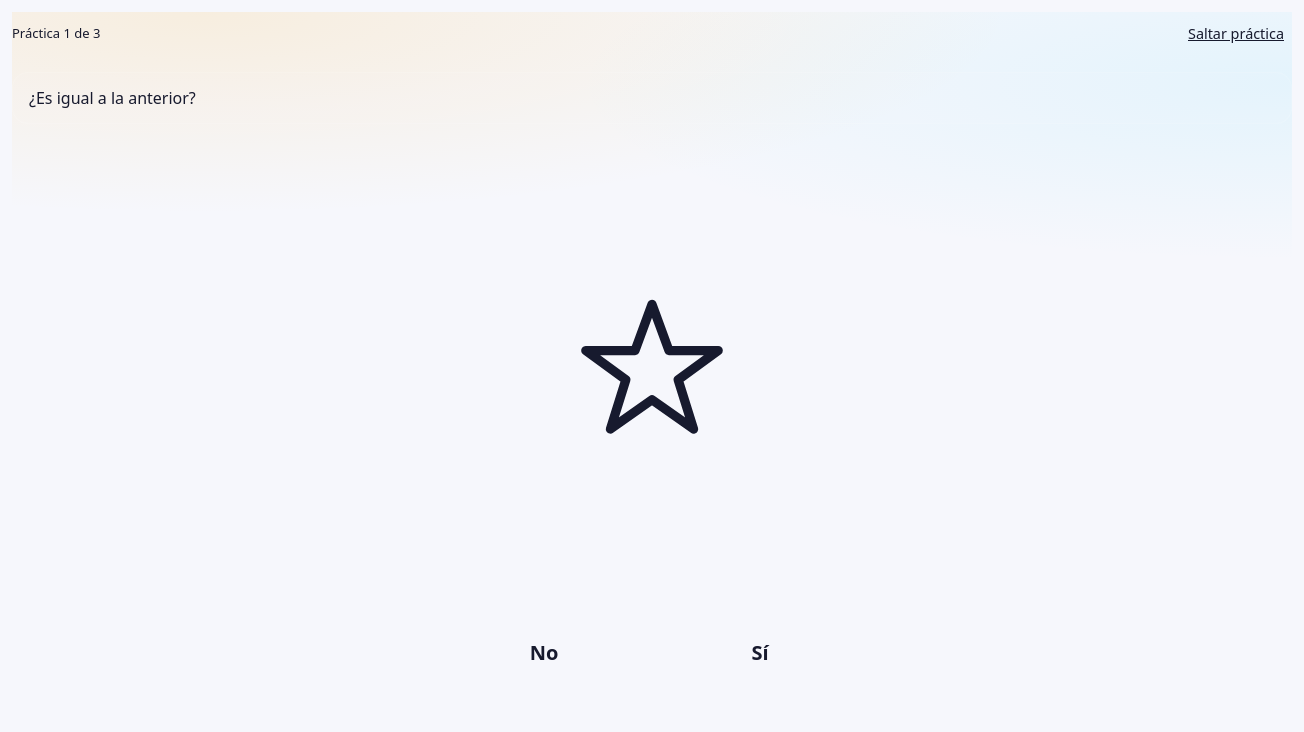
Test: the guide walks through the three questions
Click the button "Sí": (760, 653) [660,614,860,692]
Wait 700 ms
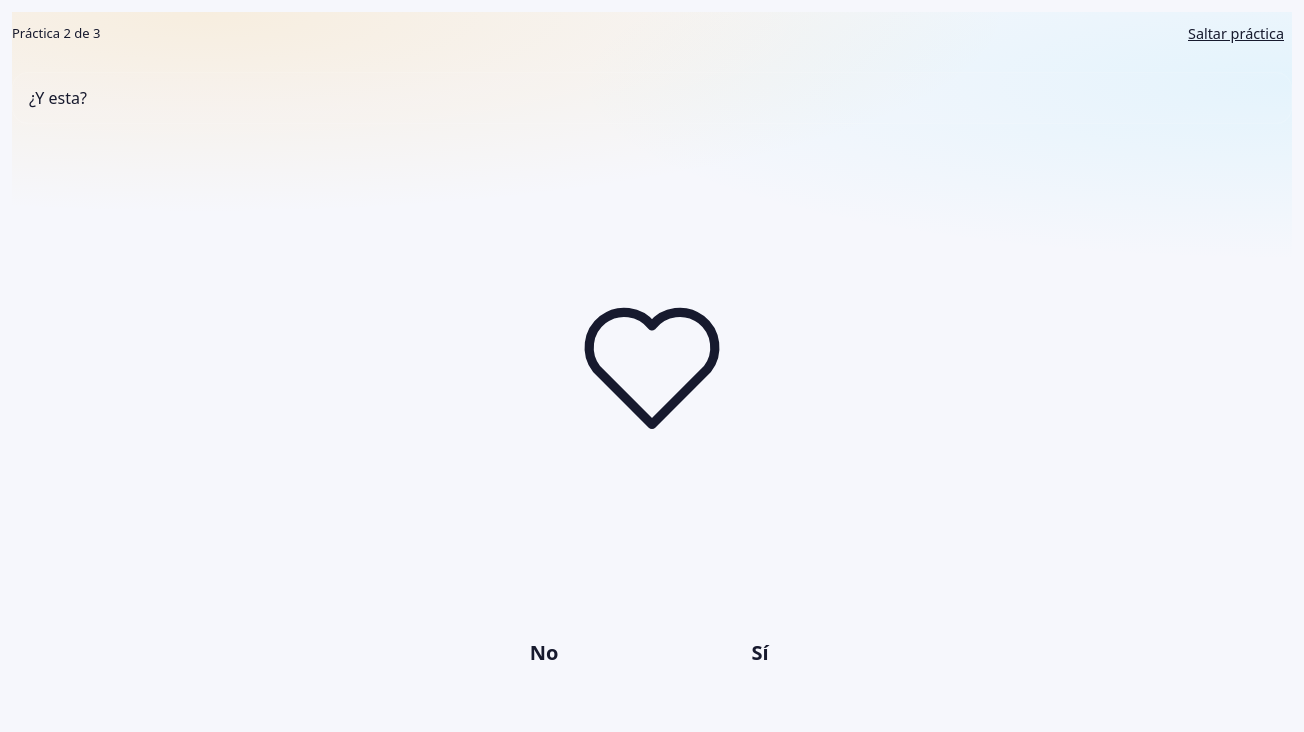
Expected: the text "¿Y esta?" is shown, [12,72,1292,124]
Click the button "No": (544, 653) [444,614,644,692]
Wait 700 ms
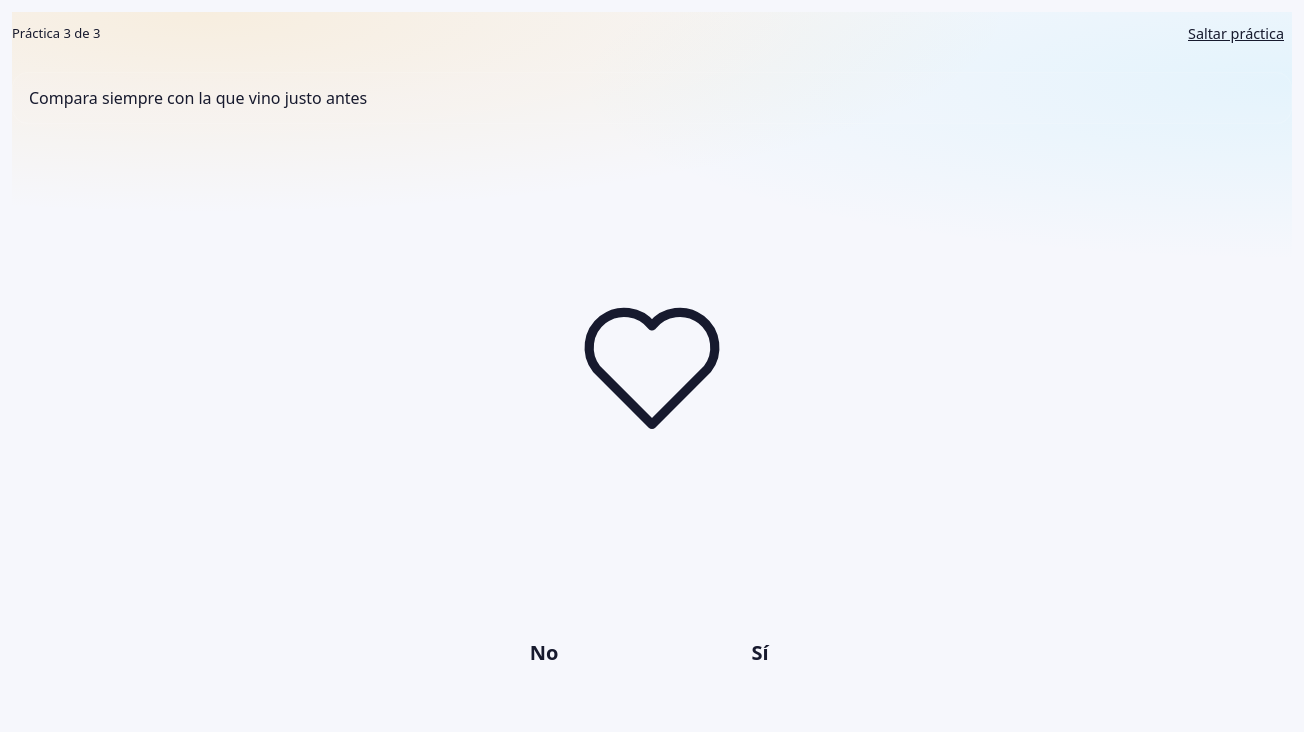
Expected: the text "Compara siempre con la que vino justo antes" is shown, [12,72,1292,124]
